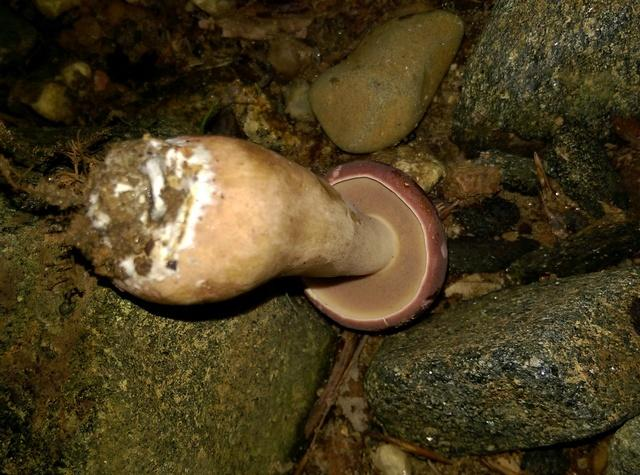Non-edible Mushroom: (79, 131, 449, 332)
